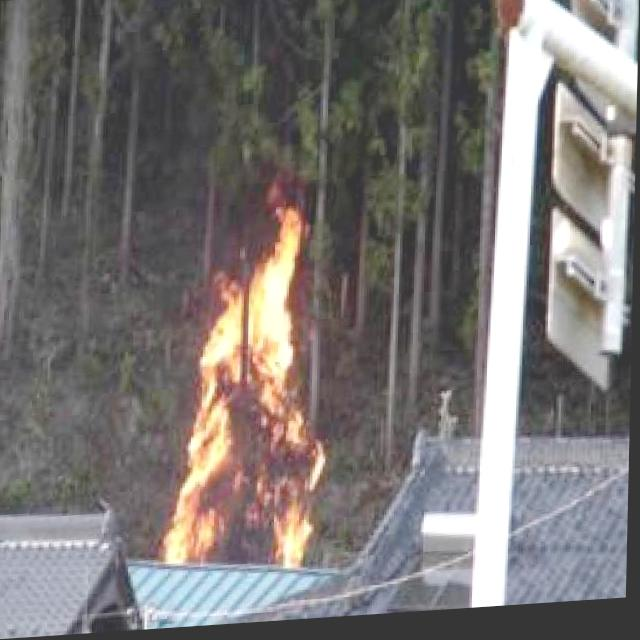helmet: (175, 223, 329, 578)
